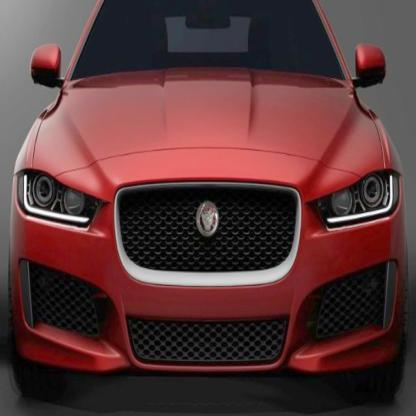Car: (8, 0, 408, 398)
